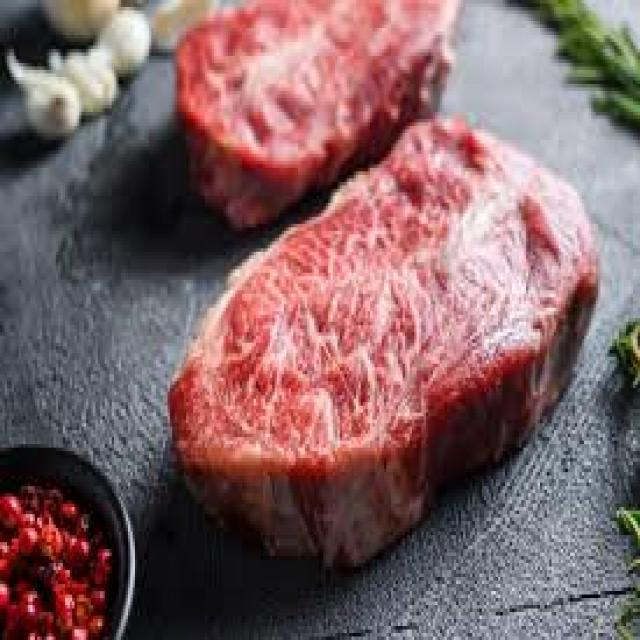beef: (165, 110, 608, 602)
